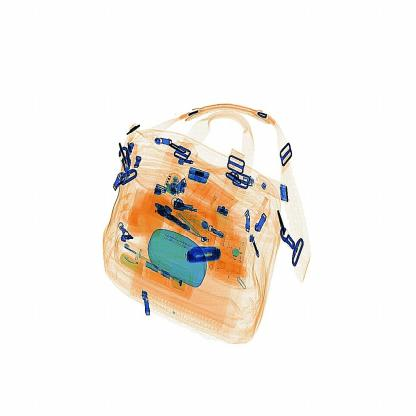scissors: (184, 242, 224, 267)
